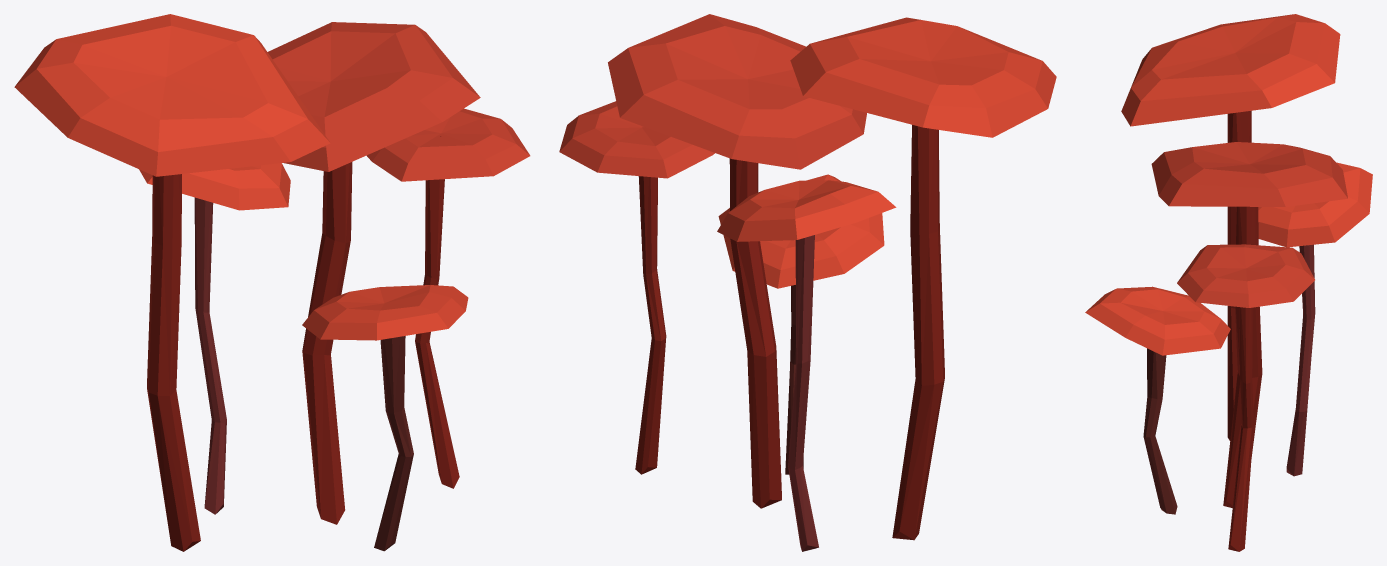
File: SM_Mushroom_06.glb
3 views of the same model, side by side, from view 1: azimuth 30°, elevation 25°; view 2: azimuth 150°, elevation 25°; view 3: azimuth 270°, elevation 25° (orthographic). The views are drawn at different scales.
Visible parts, largest first — view 1: SM_Mushroom_06; view 2: SM_Mushroom_06; view 3: SM_Mushroom_06.
Part boxes in pixels (x1,y1,x2,y2): SM_Mushroom_06: [14, 14, 530, 551]; SM_Mushroom_06: [559, 14, 1056, 551]; SM_Mushroom_06: [1085, 14, 1372, 551].
Size of the model in its own units: 0.1226 by 0.1271 by 0.082.
Materials: 1 (1 with a texture image).
